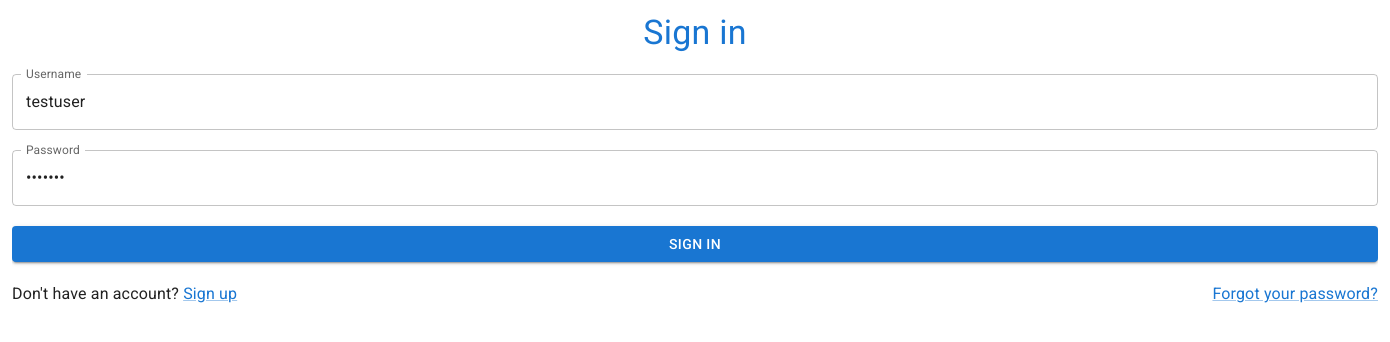
Scenario: login form › should display form error for invalid data
This screenshot has width=1390, height=342.
Expected: the text "login error" is not shown
Submit form
Click the button "Sign in": (695, 244) [12, 226, 1378, 262]
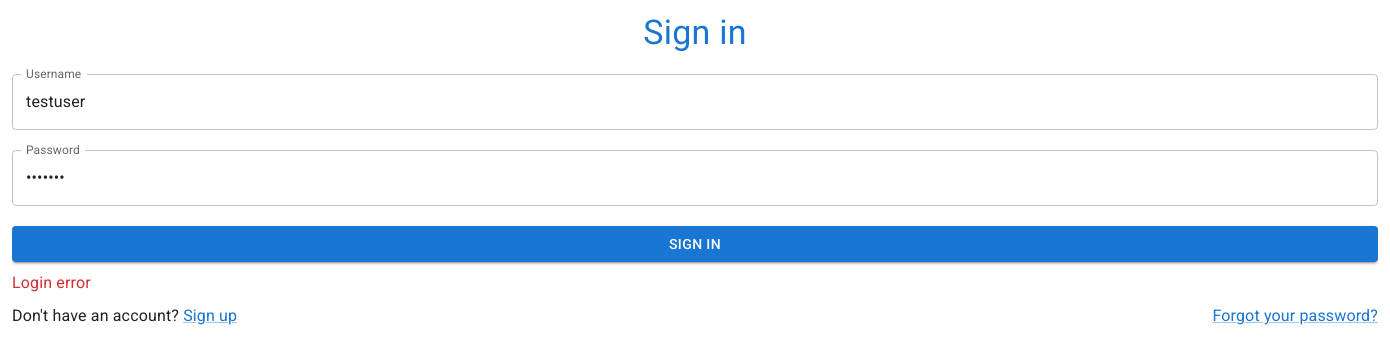
Expected: the text "Login error" is shown, [12, 274, 91, 292]
